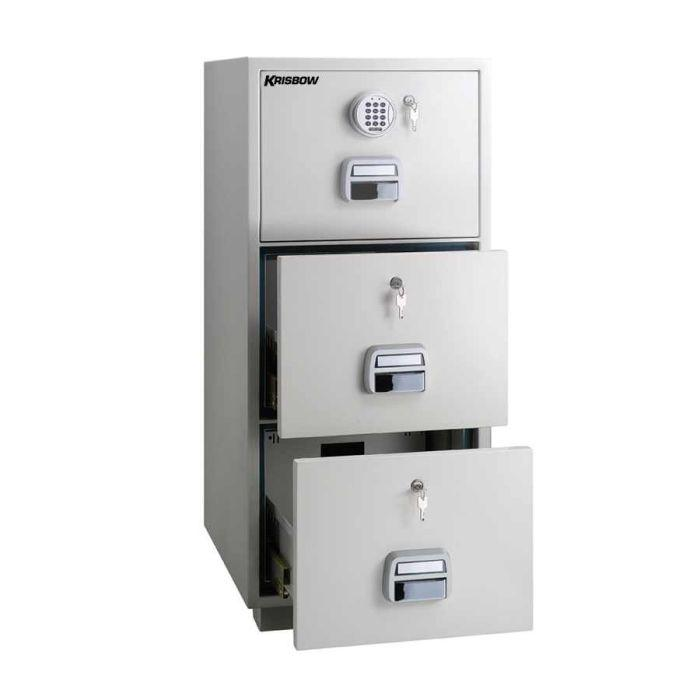Filing Cabinet: (245, 56, 533, 651)
